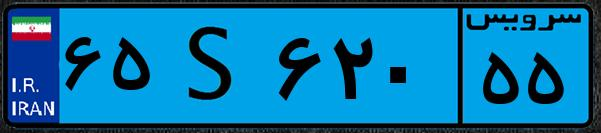0: (385, 28, 445, 110)
2: (330, 28, 385, 110)
5: (475, 38, 525, 113), (525, 38, 570, 115), (110, 28, 158, 98)
6: (270, 28, 330, 110), (57, 26, 110, 100)
S: (158, 12, 270, 120)
